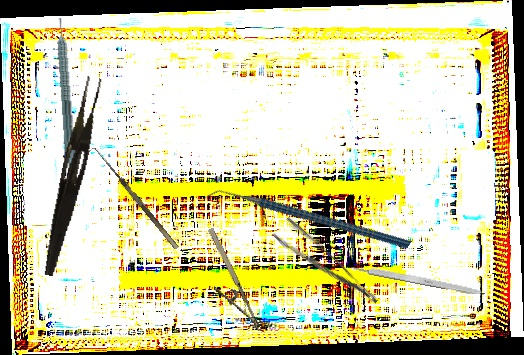Chopper: (202, 128, 413, 313)
Dressing Forceps: (40, 74, 104, 279), (270, 214, 381, 320)
Handpiece: (54, 17, 83, 170)
Hook Surgical: (87, 144, 179, 255)
Needle Holder: (191, 226, 262, 341)
Scalpel Handle: (350, 262, 486, 297)
